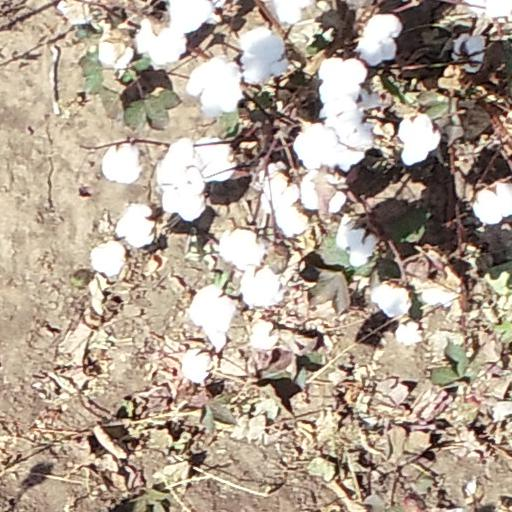Boll: (160, 137, 234, 181), (188, 59, 241, 112), (240, 32, 291, 83), (325, 103, 372, 152), (163, 168, 207, 220), (357, 15, 402, 64), (136, 19, 186, 63), (189, 287, 230, 340), (401, 113, 442, 164), (317, 56, 364, 100), (300, 171, 346, 215), (297, 127, 343, 170), (260, 163, 303, 203), (168, 1, 216, 36), (340, 219, 375, 266), (242, 267, 284, 305), (223, 229, 265, 267), (116, 205, 154, 247), (105, 144, 142, 185), (96, 31, 134, 69), (451, 35, 486, 75), (90, 241, 129, 276), (475, 183, 512, 217), (275, 198, 308, 235), (371, 285, 409, 317), (182, 348, 212, 385), (250, 318, 280, 350), (275, 1, 311, 23), (398, 321, 424, 346)
